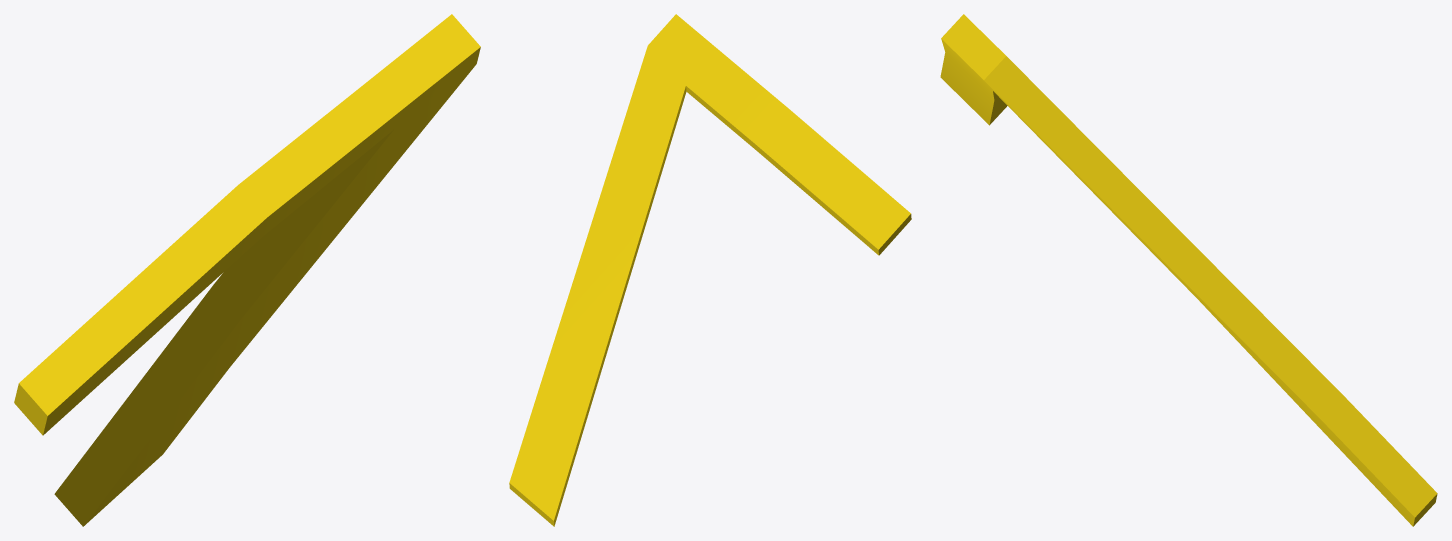
Rendered from Number_7.gltf.
3 views of the same model, side by side, from view 1: azimuth 30°, elevation 25°; view 2: azimuth 150°, elevation 25°; view 3: azimuth 270°, elevation 25° (orthographic). The views are drawn at different scales.
Parts seen in each view (by area): view 1: Sub_3_Cell_3_2_Number_7; view 2: Sub_3_Cell_3_2_Number_7; view 3: Sub_3_Cell_3_2_Number_7.
Boxes of the visible parts, x1,y1,x2,y2 form: Sub_3_Cell_3_2_Number_7: [14, 14, 480, 526]; Sub_3_Cell_3_2_Number_7: [509, 14, 911, 526]; Sub_3_Cell_3_2_Number_7: [940, 14, 1437, 526].
Bounding box in the file's own units: 0.0158 × 0.0228 × 0.019.
